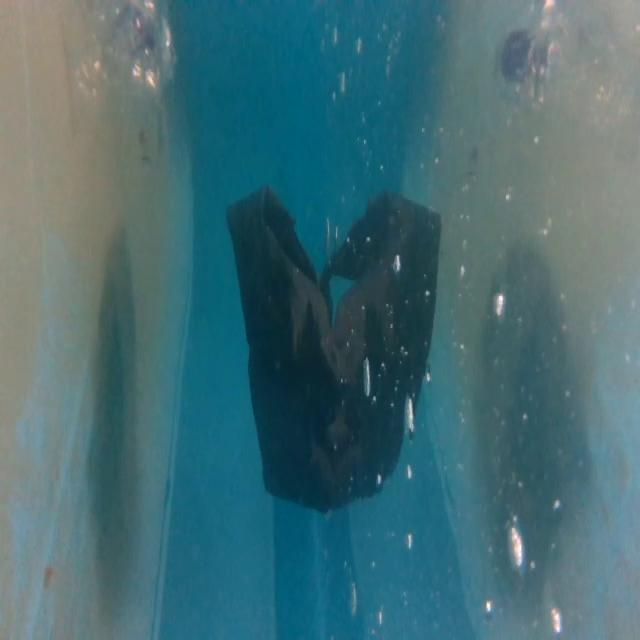plastic bags: (222, 183, 447, 522)
